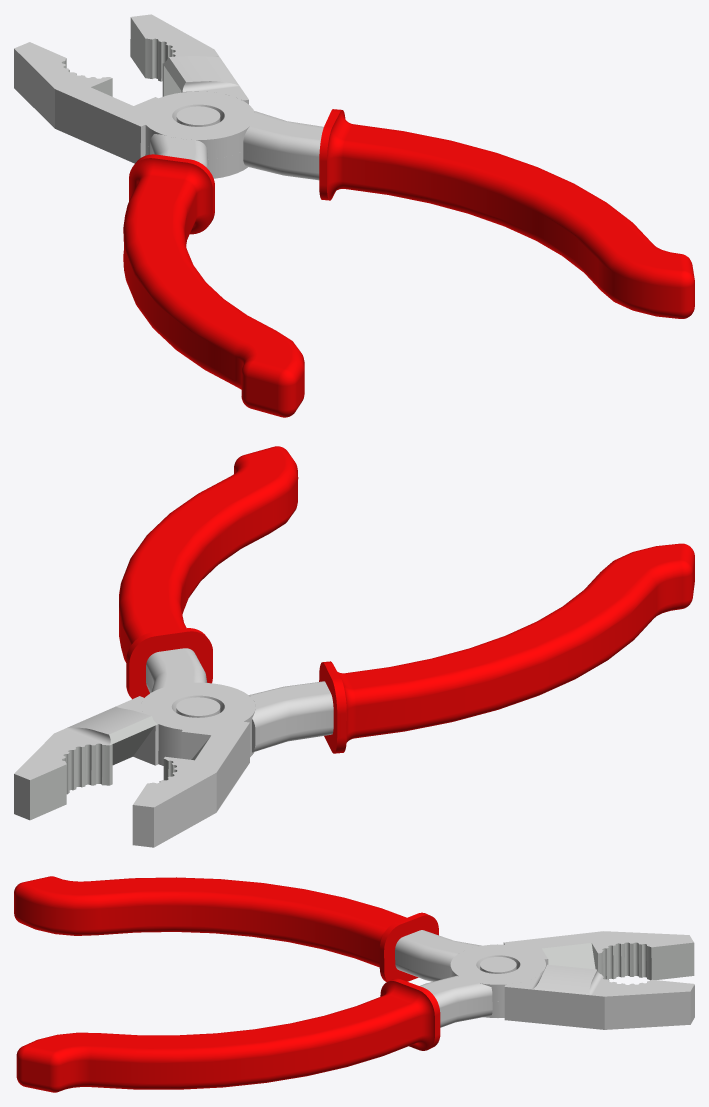
3 renders of one model, top to bottom at view 1: azimuth 30°, elevation 25°; view 2: azimuth 150°, elevation 25°; view 3: azimuth 270°, elevation 25°, orthographic. The views are drawn at different scales.
Parts seen in each view (by area): view 1: pliers.001, pliers_1.001, pliers-2.001, pliers_2-2.001, pliers_2-3.001, Part3pliers.001; view 2: pliers_1.001, pliers.001, pliers-2.001, pliers_2-2.001, pliers_2-3.001, Part3pliers.001; view 3: pliers.001, pliers_1.001, pliers_2-2.001, pliers-2.001, pliers-3.001, Part3pliers.001.
Part boxes in pixels (left/top/right/bottom): pliers.001: left=319, top=109, right=694, bottom=318; pliers_1.001: left=123, top=154, right=304, bottom=417; pliers-2.001: left=14, top=42, right=323, bottom=180; pliers_2-2.001: left=131, top=14, right=248, bottom=178; pliers_2-3.001: left=130, top=17, right=185, bottom=96; Part3pliers.001: left=176, top=106, right=220, bottom=126; pliers_1.001: left=319, top=543, right=694, bottom=753; pliers.001: left=119, top=446, right=298, bottom=699; pliers-2.001: left=132, top=648, right=255, bottom=847; pliers_2-2.001: left=14, top=681, right=333, bottom=820; pliers_2-3.001: left=30, top=716, right=157, bottom=820; Part3pliers.001: left=176, top=697, right=220, bottom=717; pliers.001: left=16, top=978, right=440, bottom=1092; pliers_1.001: left=14, top=876, right=438, bottom=981; pliers_2-2.001: left=395, top=930, right=694, bottom=1029; pliers-2.001: left=420, top=931, right=693, bottom=1027; pliers-3.001: left=542, top=942, right=694, bottom=980; Part3pliers.001: left=480, top=957, right=516, bottom=973.
Bounding box in the file's own units: 0.5914 × 0.0902 × 0.9262.
